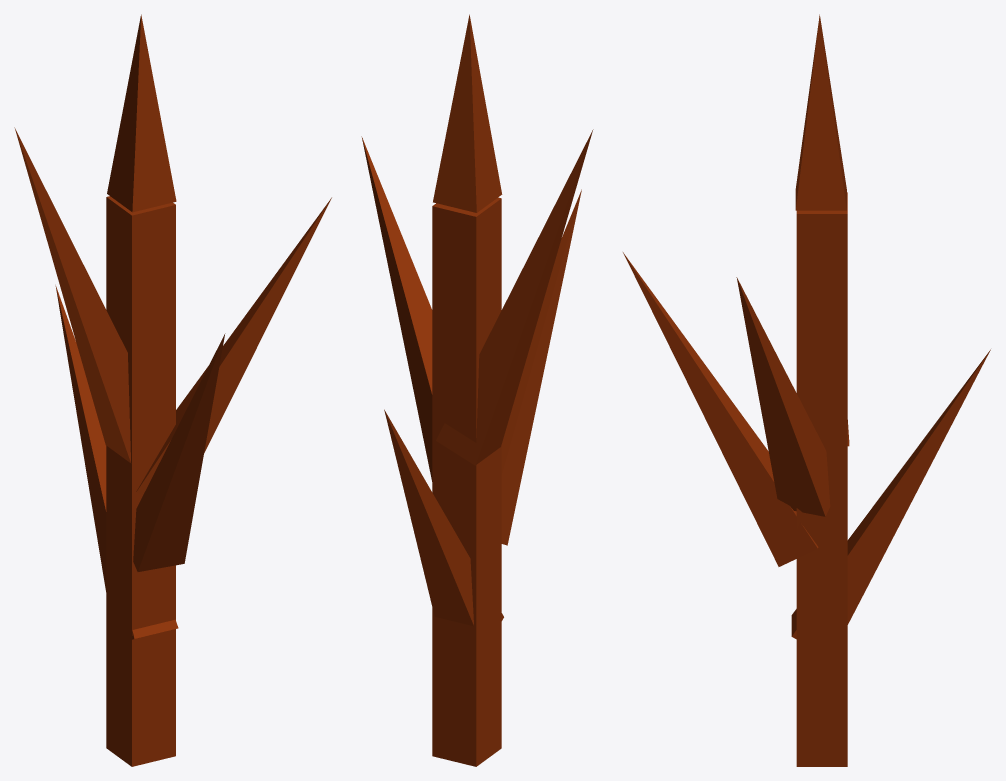
The model's file is shturki_mega.fbx.
The picture shows the model from 3 angles, left to right: view 1: azimuth 30°, elevation 25°; view 2: azimuth 150°, elevation 25°; view 3: azimuth 270°, elevation 25°; orthographic projection.
Visible parts, largest first — view 1: Cube, Cube.001, Cube.005, Cube.002, Cube.004, Cube.003; view 2: Cube, Cube.001, Cube.002, Cube.003, Cube.004, Cube.005; view 3: Cube, Cube.005, Cube.004, Cube.003, Cube.002.
Part boxes in pixels (x1,y1,x2,y2): Cube: (106, 196, 175, 766); Cube.001: (14, 127, 130, 462); Cube.005: (133, 333, 225, 571); Cube.002: (107, 14, 176, 212); Cube.004: (136, 197, 331, 495); Cube.003: (55, 285, 178, 639); Cube: (432, 197, 501, 766); Cube.001: (436, 129, 593, 465); Cube.002: (433, 14, 502, 212); Cube.003: (384, 409, 503, 626); Cube.004: (361, 136, 432, 481); Cube.005: (501, 189, 581, 545); Cube: (796, 192, 847, 766); Cube.005: (623, 252, 818, 566); Cube.004: (736, 277, 830, 516); Cube.003: (791, 349, 990, 639); Cube.002: (795, 14, 846, 210).
Bounding box in the file's own units: 208 × 533 × 241.
